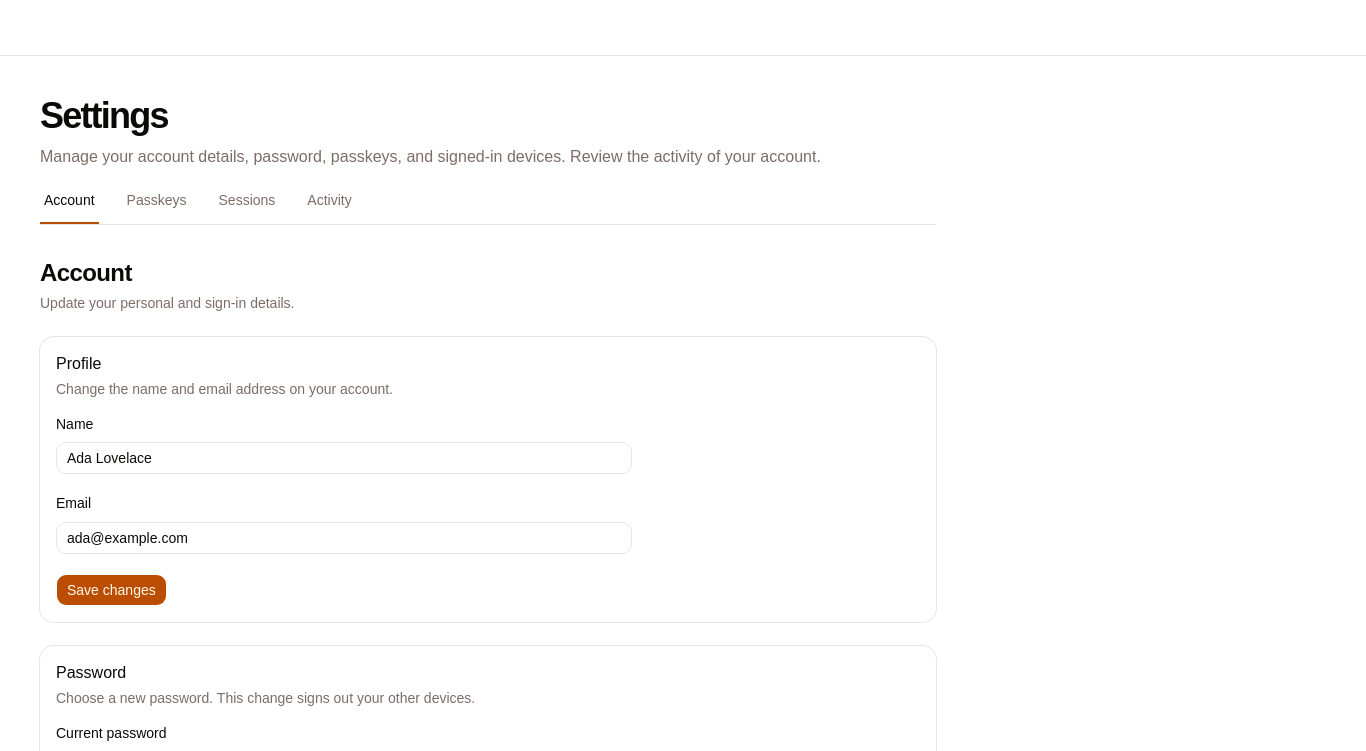
it: passkey settings › opens passkeys from the settings navigation
Click the link "Passkeys": (157, 200) [127,192,186,208]
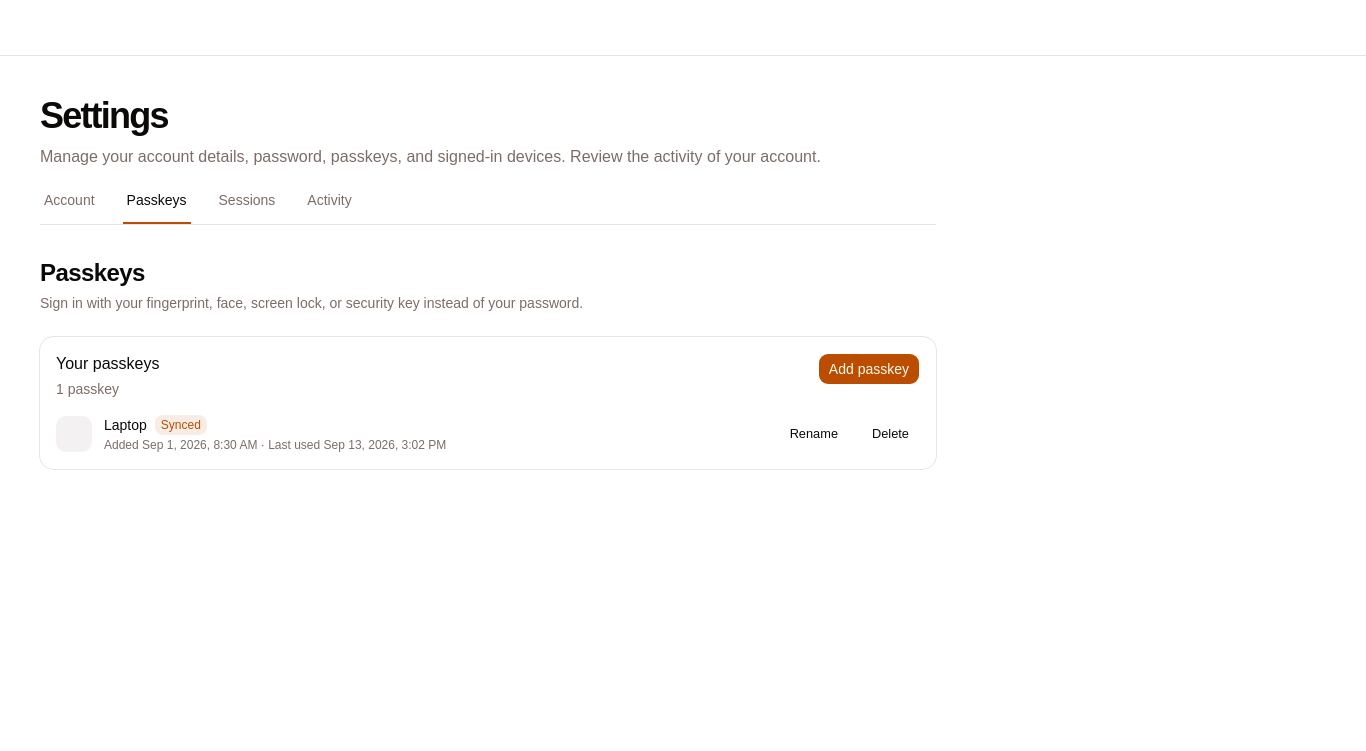
Expected: the heading "Passkeys" is shown, [40,259,145,286]
Expected: the text "Laptop" is shown, [104,415,147,435]
Expected: the text "Synced" is shown, [155,415,207,435]
